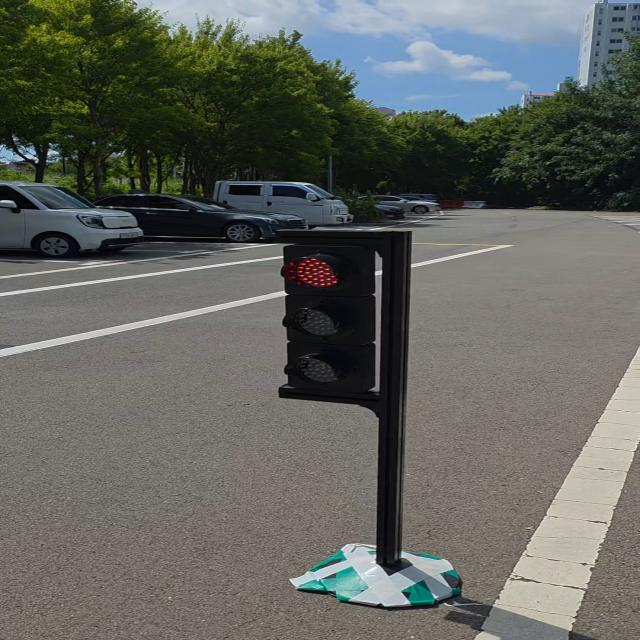red: (267, 235, 410, 407)
